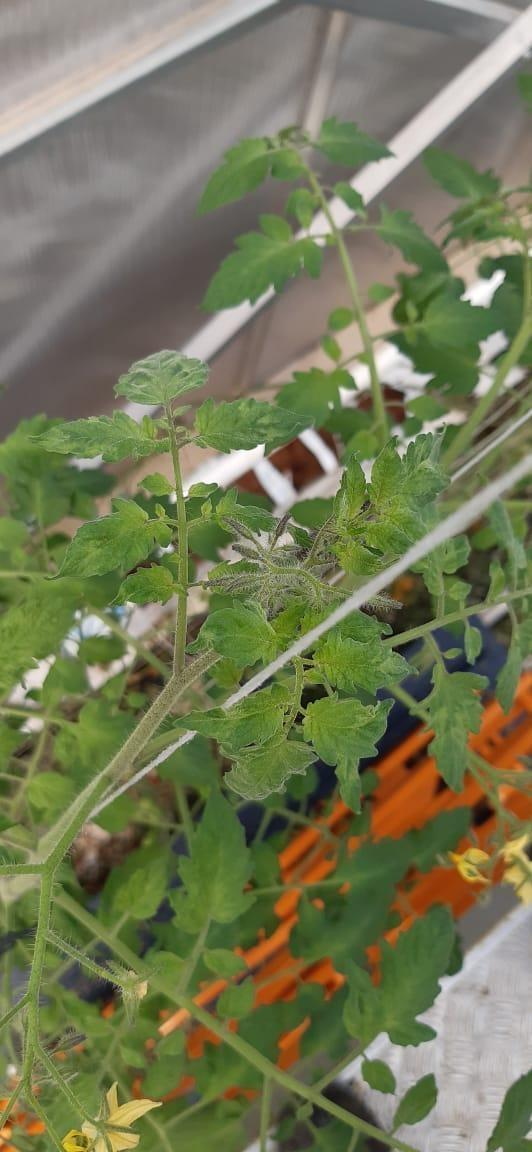Hoja rugoso: (58, 500, 171, 578), (176, 684, 292, 754), (34, 410, 166, 462), (363, 441, 418, 564), (195, 398, 307, 453), (304, 698, 394, 764), (315, 634, 412, 694), (225, 738, 317, 800), (117, 351, 207, 407), (198, 605, 274, 666), (402, 433, 447, 519), (335, 458, 369, 538), (117, 564, 175, 605)
Pedunculo: (35, 650, 217, 872), (19, 835, 66, 1096), (166, 406, 188, 679)
Pedunculo rugoso: (208, 516, 325, 619)
